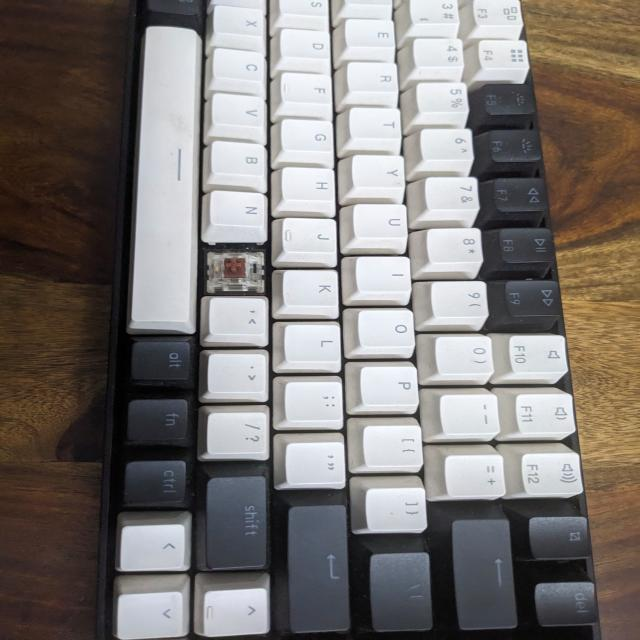C: (204, 250, 266, 296)
